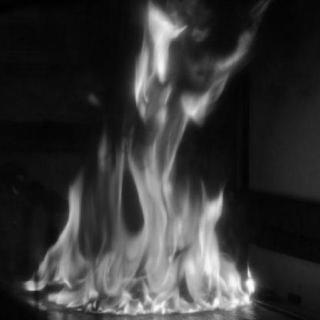Fire: (23, 6, 265, 314)
